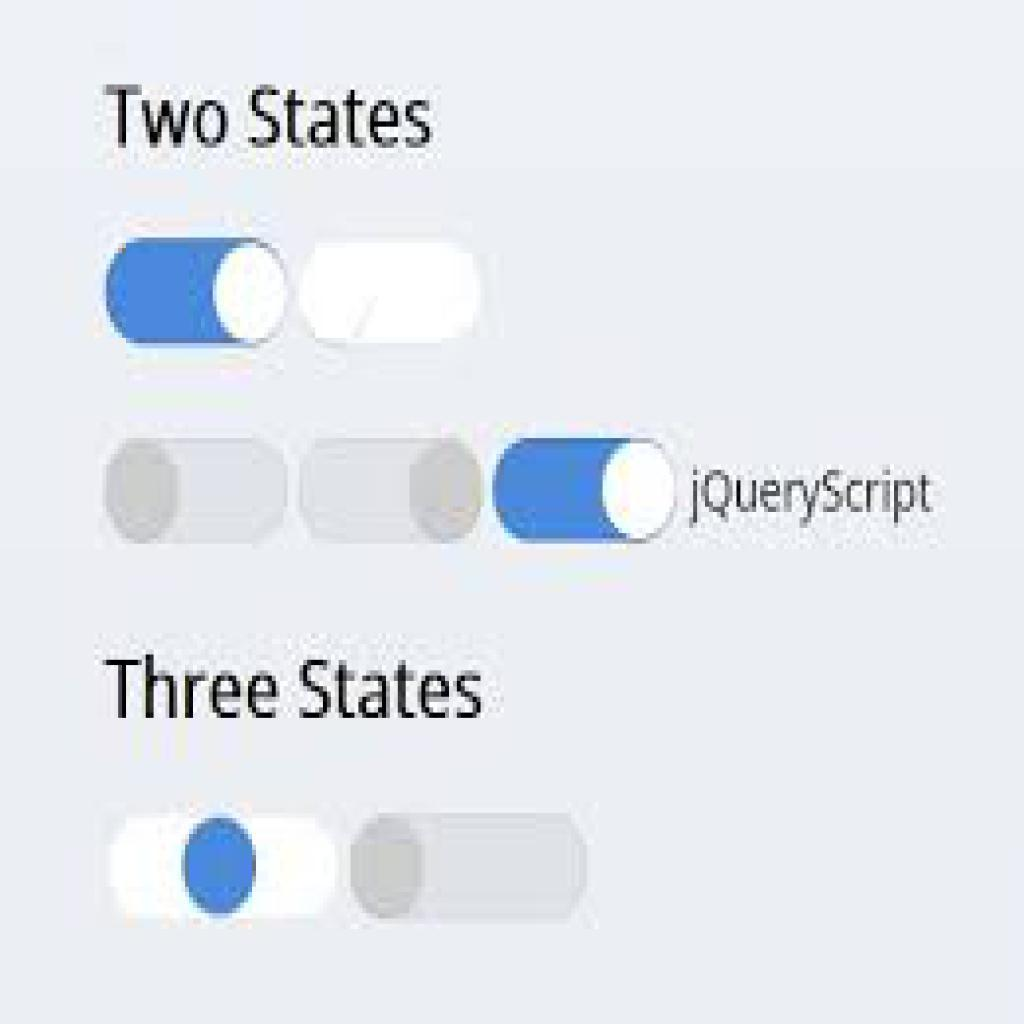switch: (350, 811, 589, 929), (112, 807, 335, 928), (104, 435, 290, 548), (297, 438, 482, 547), (300, 241, 484, 350), (493, 439, 678, 547), (108, 238, 289, 348)
